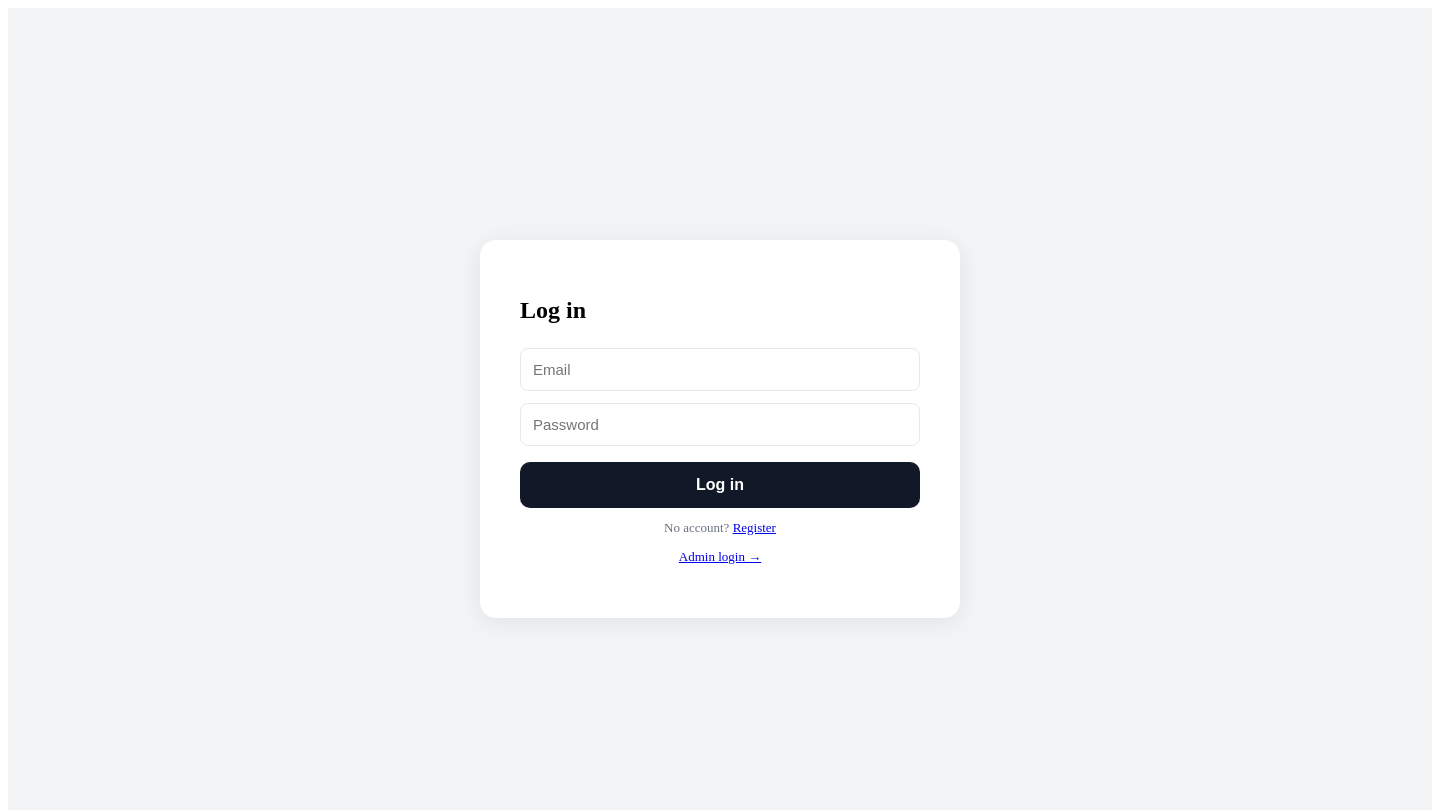
Scenario: LoginPage › Pending / loading state › disables the button while the mutation is in-flight
The image size is (1440, 810).
Type "a@b.com" into the field with placeholder "Email" at x=720, y=369, box [520,348,920,390]
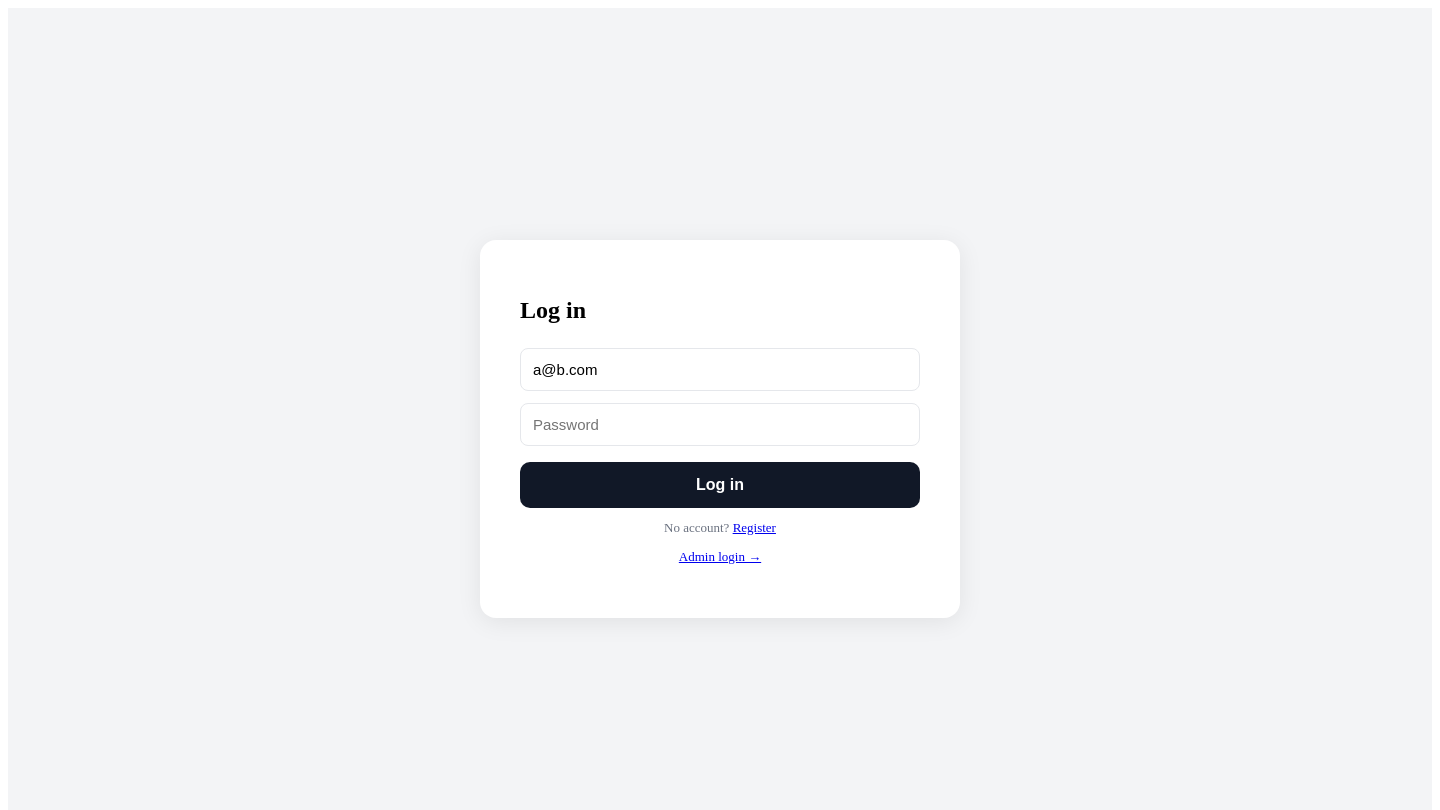
Type "pw" into the password field with placeholder "Password" at x=720, y=424, box [520,402,920,446]
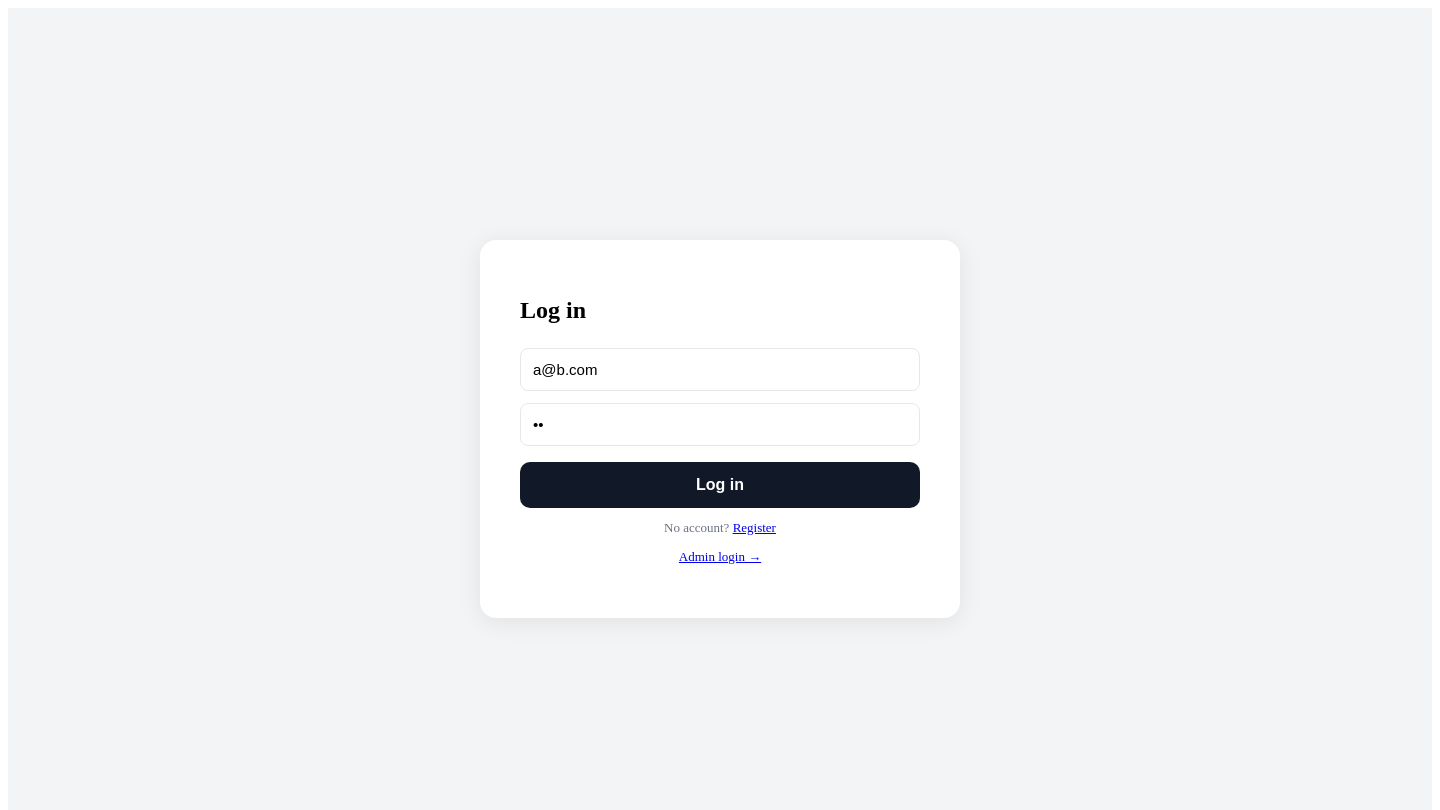
Click the button "Log in" at x=720, y=484, box [520,462,920,508]
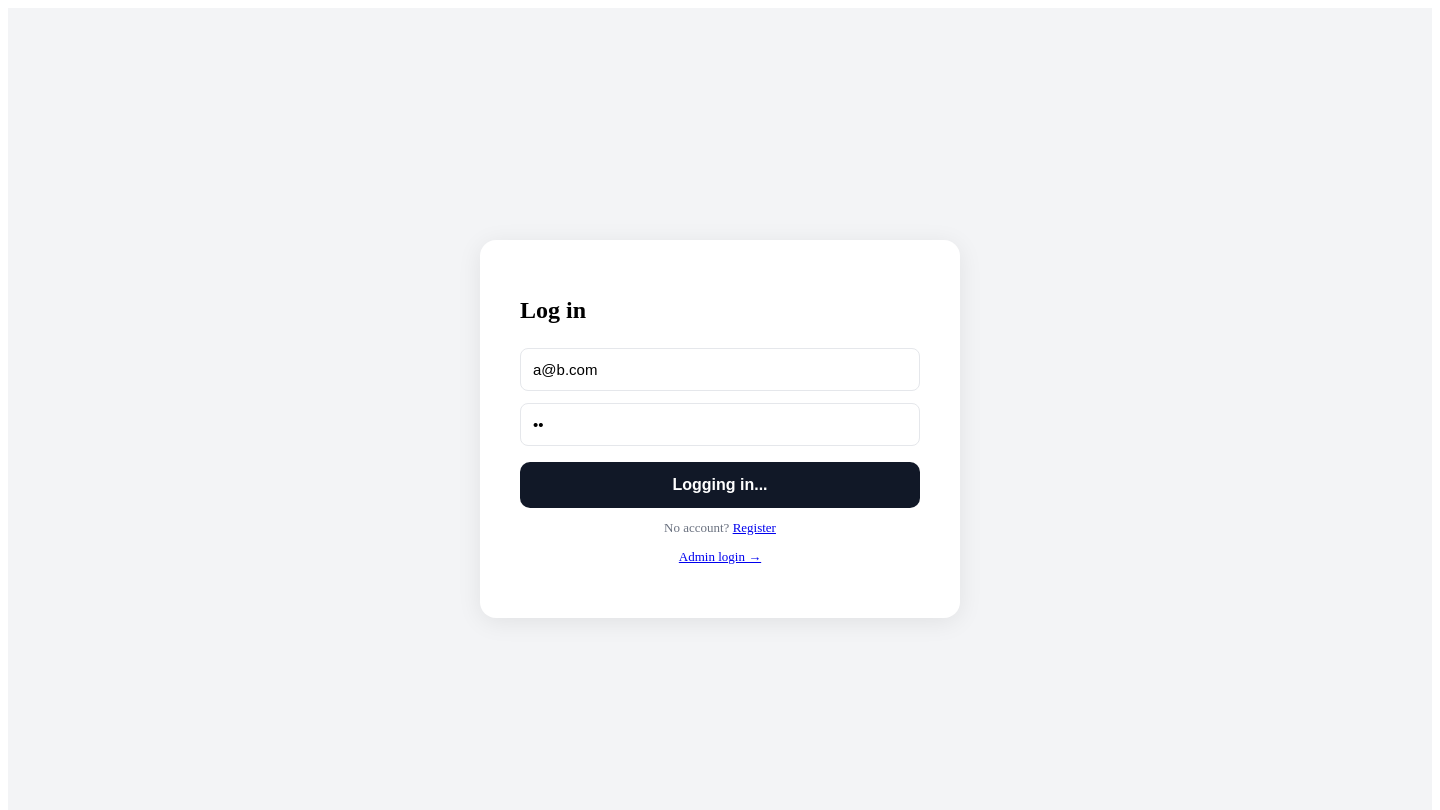
Result: the button "Logging in..." is disabled at [520,462,920,508]
